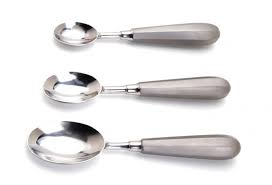spoon: (24, 118, 244, 170), (40, 68, 236, 108), (50, 18, 223, 51)
